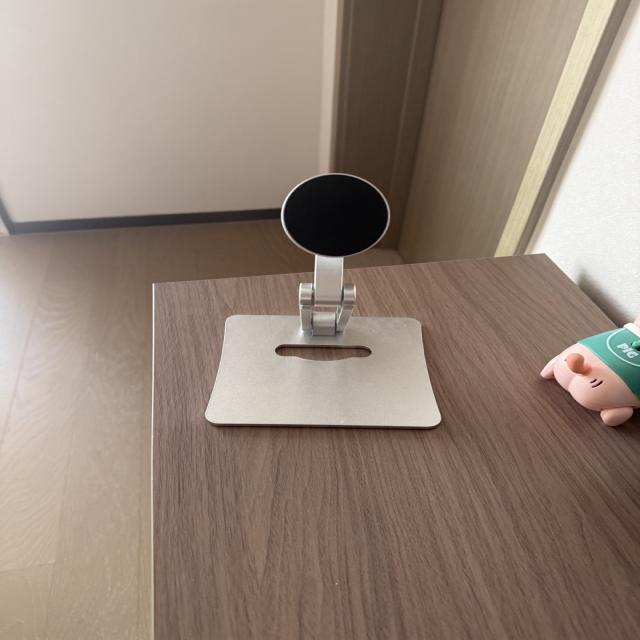phone holder: (163, 142, 463, 440)
